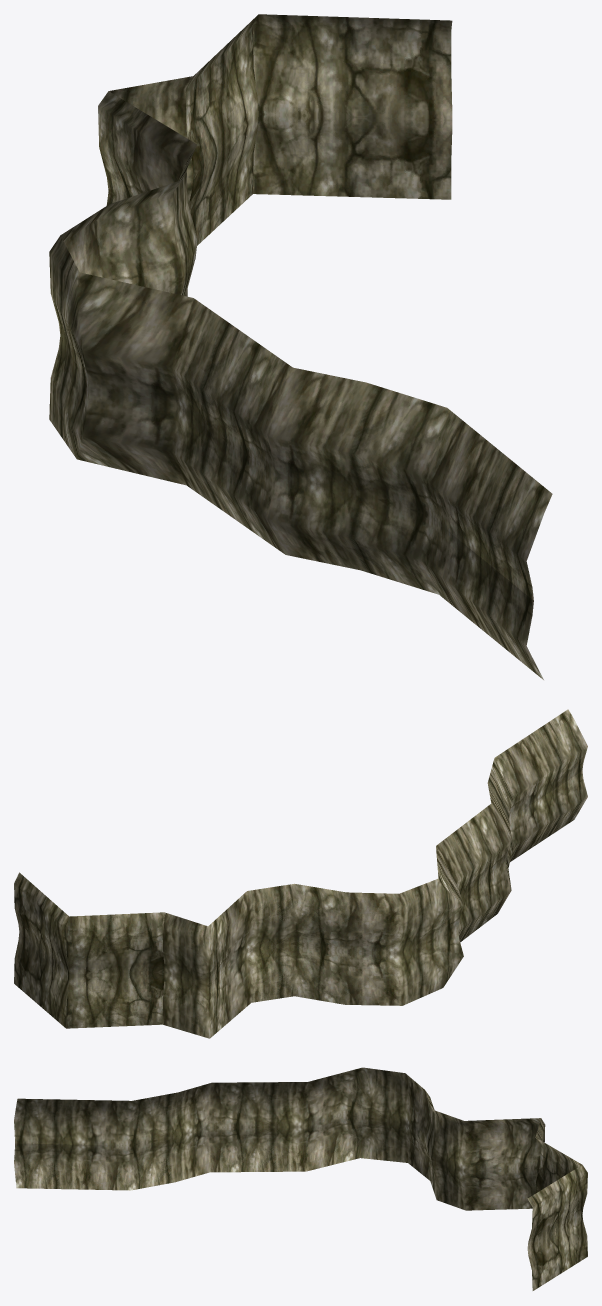
The model's file is CB_NEWPLAYSURFACE_CB_PLAYSURFACE45.fbx.
3 renders of one model, top to bottom at view 1: azimuth 30°, elevation 25°; view 2: azimuth 150°, elevation 25°; view 3: azimuth 270°, elevation 25°, orthographic. The views are drawn at different scales.
Visible parts, largest first — view 1: CB_NEWPLAYSURFACE_CB_PLAYSURFACE45; view 2: CB_NEWPLAYSURFACE_CB_PLAYSURFACE45; view 3: CB_NEWPLAYSURFACE_CB_PLAYSURFACE45.
Part boxes in pixels (x1,y1,x2,y2): CB_NEWPLAYSURFACE_CB_PLAYSURFACE45: (49, 14, 552, 679); CB_NEWPLAYSURFACE_CB_PLAYSURFACE45: (14, 709, 587, 1038); CB_NEWPLAYSURFACE_CB_PLAYSURFACE45: (14, 1067, 587, 1290).
Bounding box in the file's own units: 234802 × 73541 × 416166.
1 material, 1 textured.
